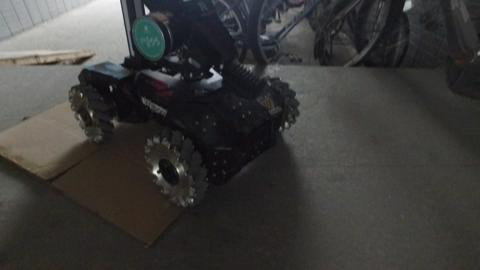chariot: (50, 13, 303, 207)
